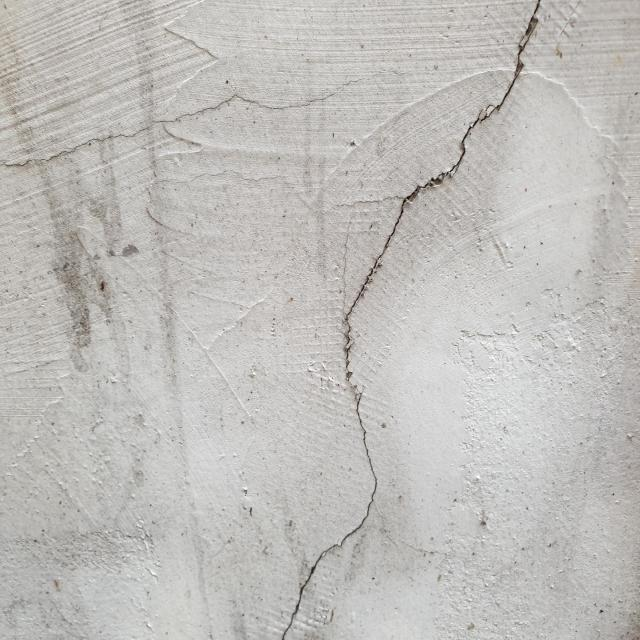SurfaceCrack: (211, 1, 567, 639)
